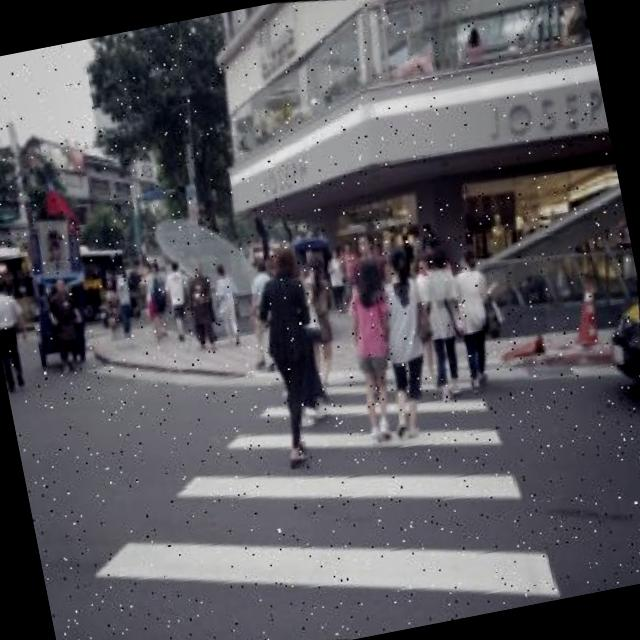Person: (230, 240, 348, 470), (323, 252, 422, 448), (361, 241, 456, 444), (435, 240, 521, 396), (405, 242, 481, 404), (286, 248, 358, 394), (34, 272, 96, 376), (0, 271, 48, 403), (202, 258, 252, 348), (178, 257, 226, 349), (156, 257, 199, 342)
